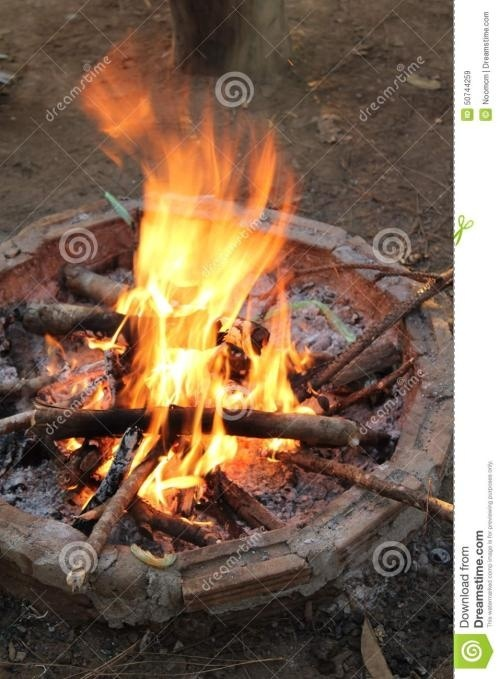fire: (50, 42, 331, 469)
